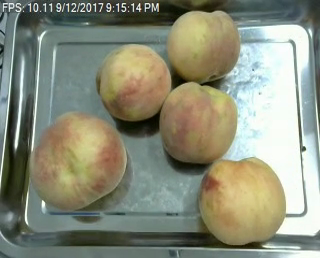Peach: (29, 110, 125, 208), (199, 156, 285, 244), (160, 82, 237, 165), (94, 42, 172, 120), (165, 9, 240, 82)
